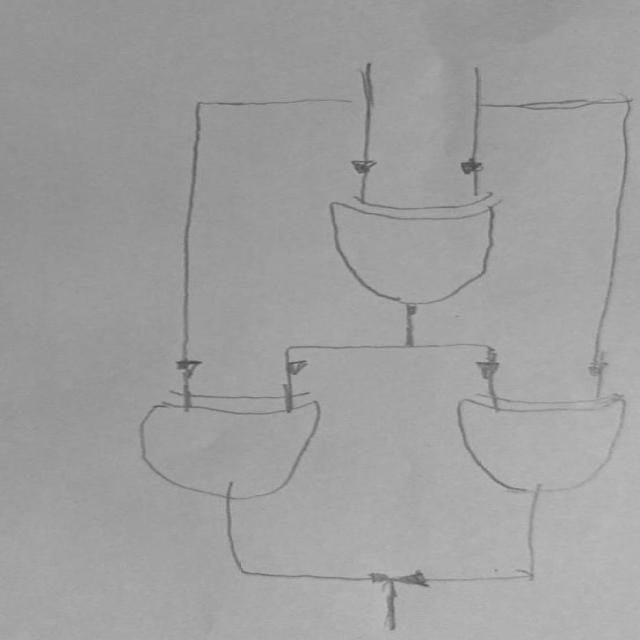XOR: (116, 376, 362, 516), (311, 186, 537, 319), (436, 380, 640, 506)
